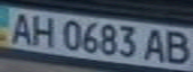0: (57, 17, 84, 52)
3: (118, 24, 142, 60)
6: (78, 20, 103, 55)
8: (96, 21, 121, 57)
A: (139, 26, 172, 63), (3, 9, 36, 45)
B: (160, 28, 193, 65)
H: (27, 12, 57, 48)
